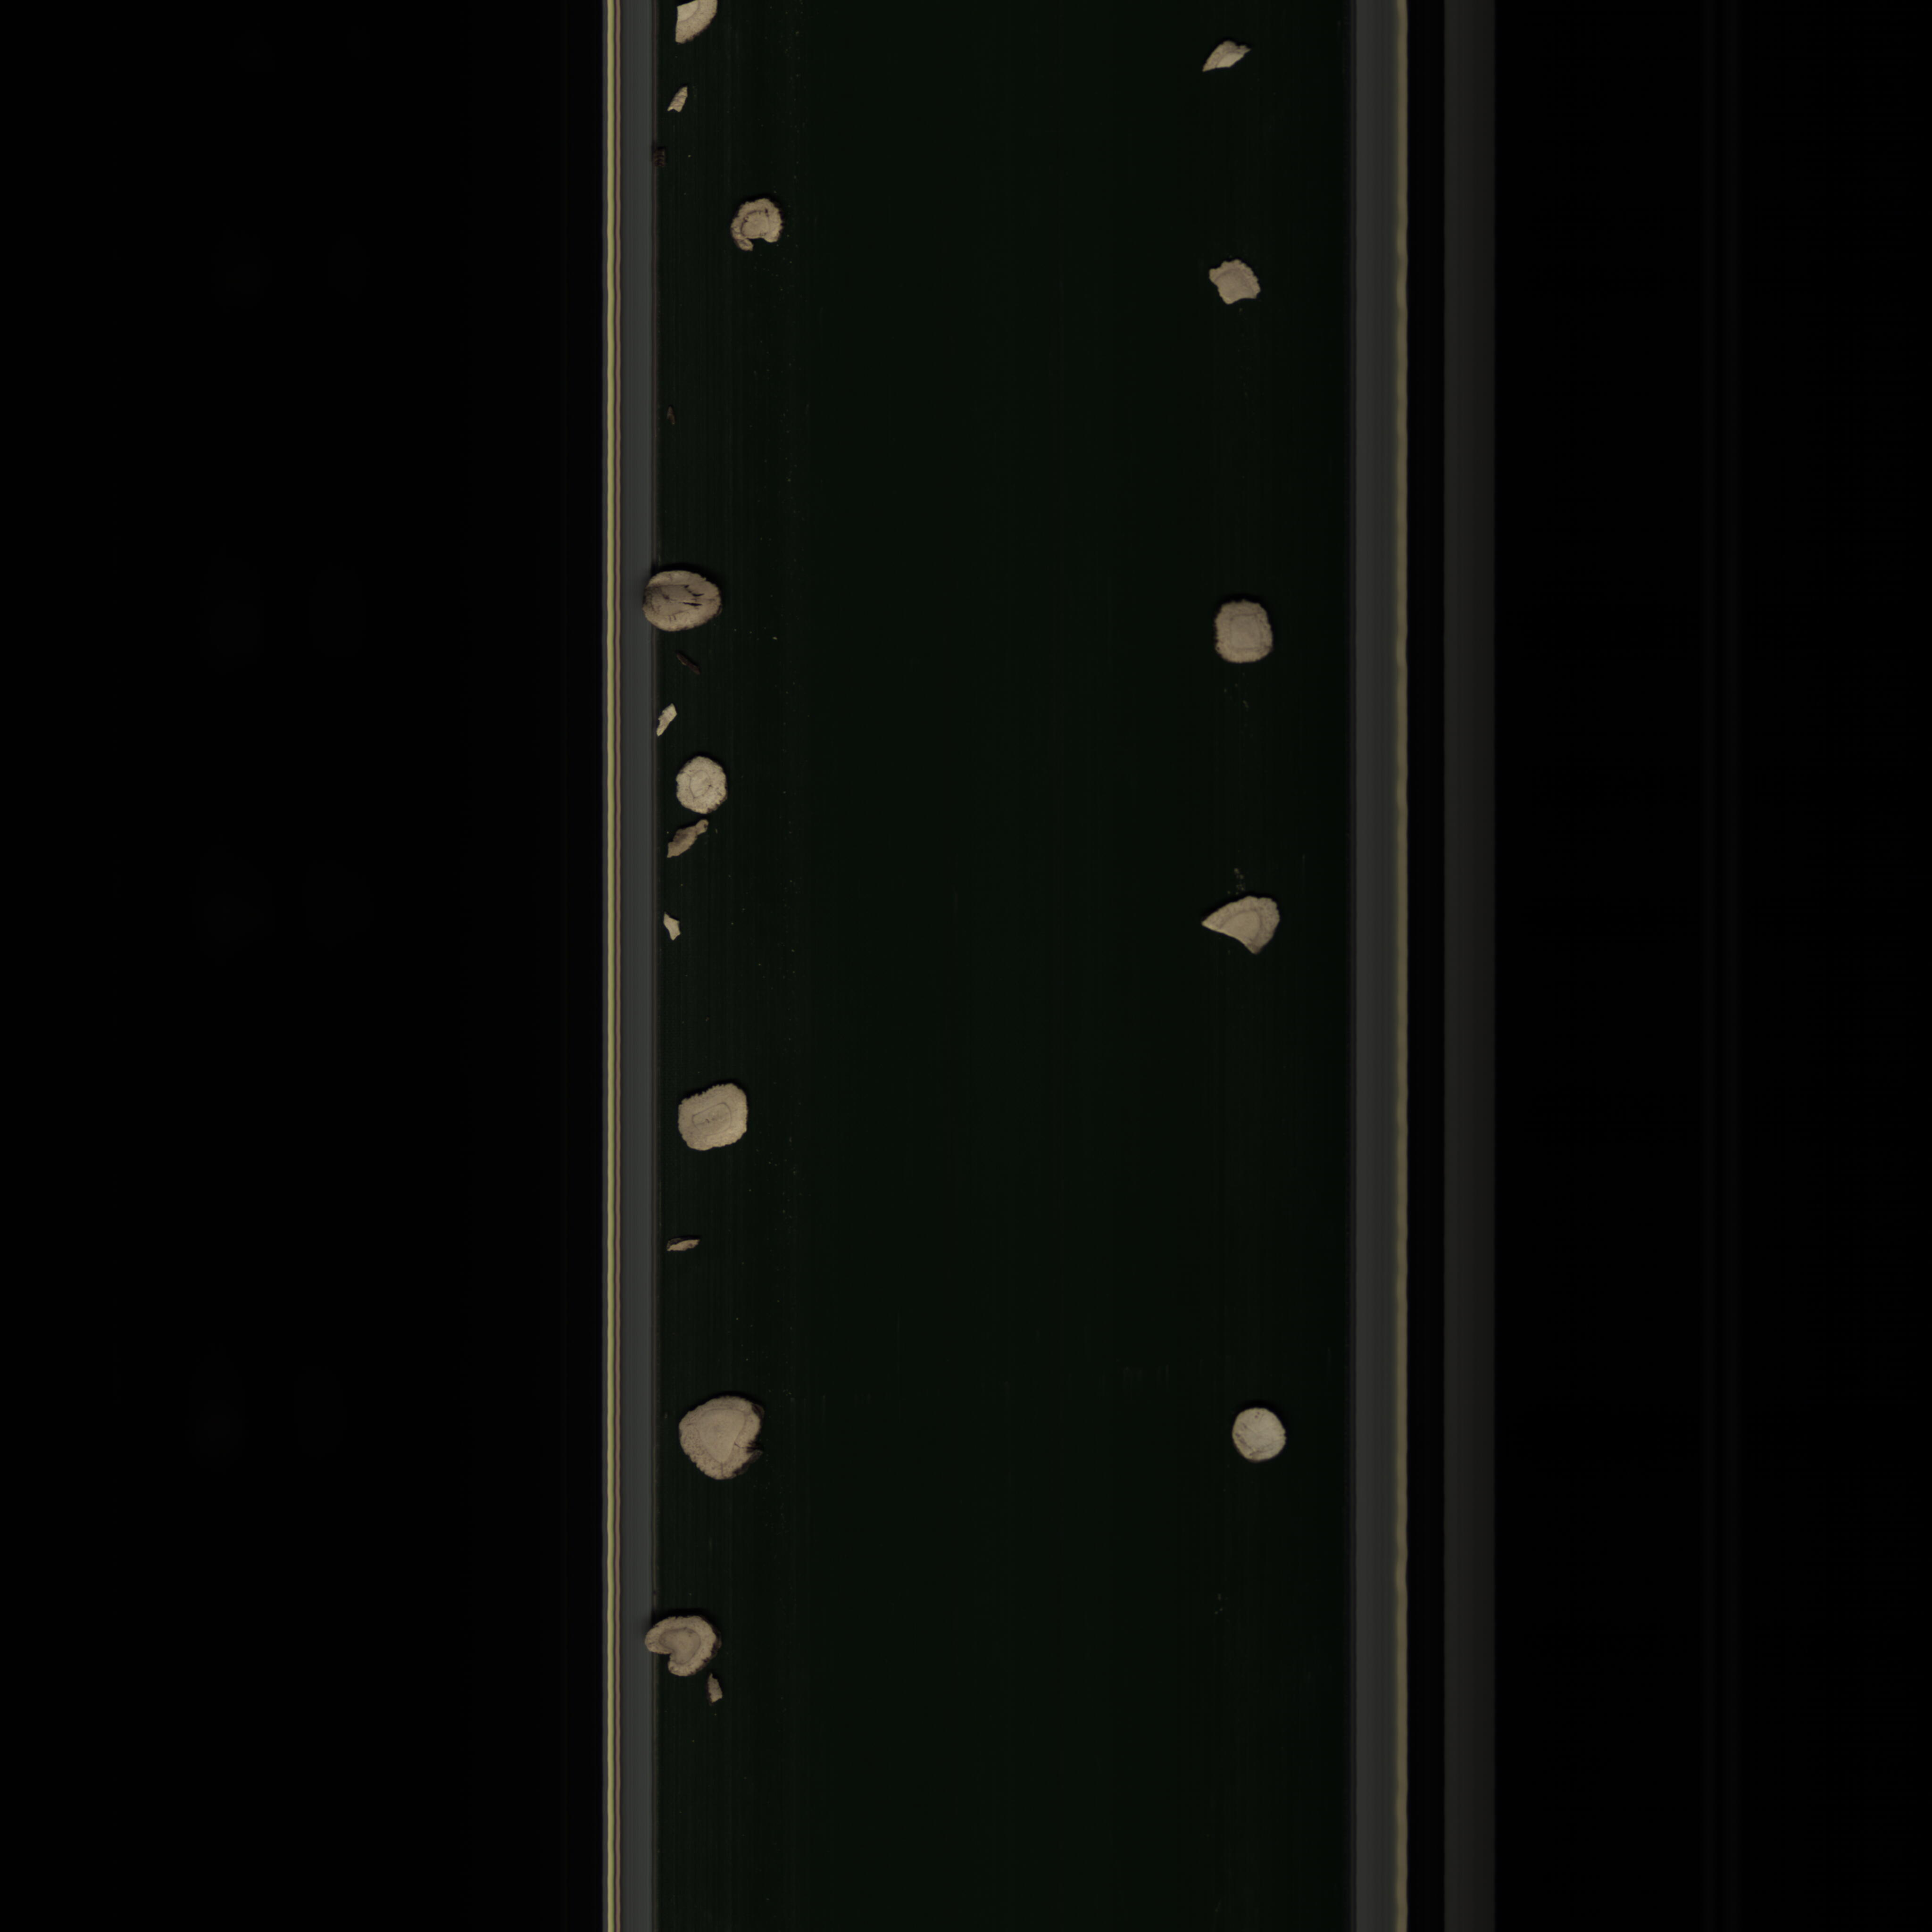debris: (1198, 890, 1283, 959), (713, 193, 794, 255), (1194, 255, 1269, 311), (1192, 39, 1260, 78), (663, 817, 709, 862), (648, 699, 688, 741), (655, 911, 692, 945)
distortion: (639, 1610, 725, 1679)
hole: (633, 570, 732, 637)
